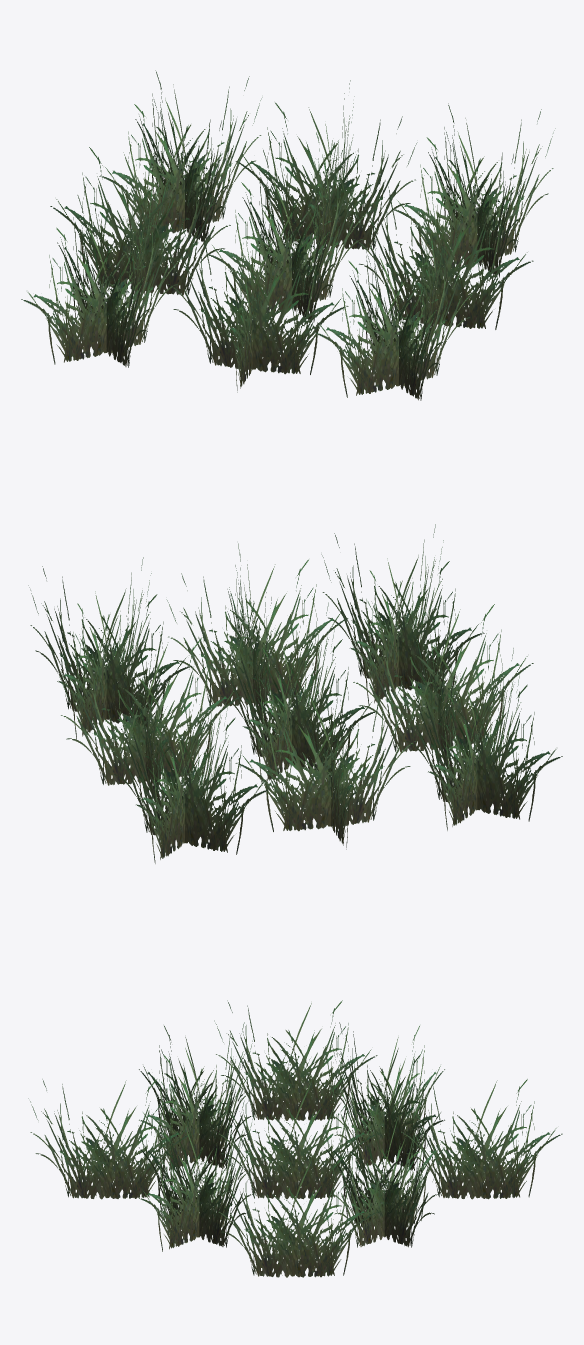
Rendered from grasspatch_large.gltf.
The picture shows the model from 3 angles, top to bottom: view 1: azimuth 30°, elevation 25°; view 2: azimuth 150°, elevation 25°; view 3: azimuth 270°, elevation 25°; orthographic projection. The views are drawn at different scales.
Parts seen in each view (by area): view 1: Plane.016; view 2: Plane.016; view 3: Plane.016.
Part boxes in pixels (x1,y1,x2,y2): Plane.016: (21,70,555,400); Plane.016: (28,524,562,863); Plane.016: (28,1000,562,1277).
Size of the model in its own units: 6 by 2 by 6.
1 material, 1 textured.
